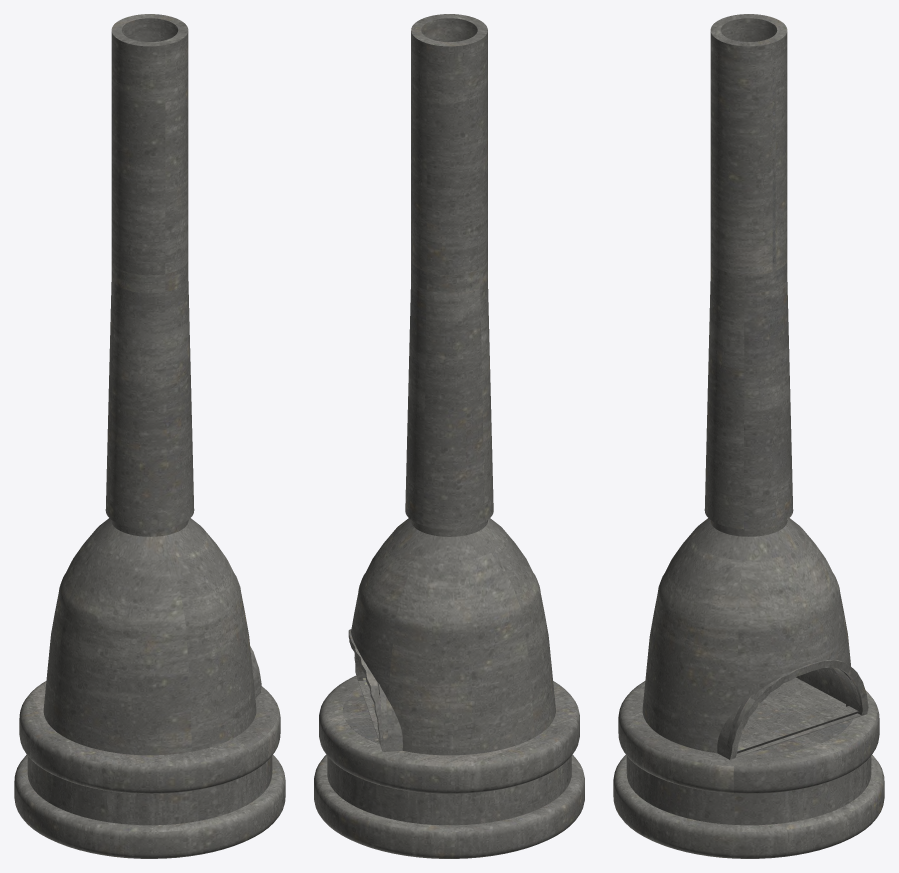
Rendered from Печь.fbx.
3 renders of one model, left to right at view 1: azimuth 30°, elevation 25°; view 2: azimuth 150°, elevation 25°; view 3: azimuth 270°, elevation 25°, orthographic.
Parts seen in each view (by area): view 1: Cylinder.002; view 2: Cylinder.002; view 3: Cylinder.002.
Boxes of the visible parts, bbox=[...] form: Cylinder.002: bbox=[14, 14, 285, 858]; Cylinder.002: bbox=[314, 14, 584, 858]; Cylinder.002: bbox=[613, 14, 884, 858].
Size of the model in its own units: 113 by 357 by 113.
Materials: 1 (1 with a texture image).
